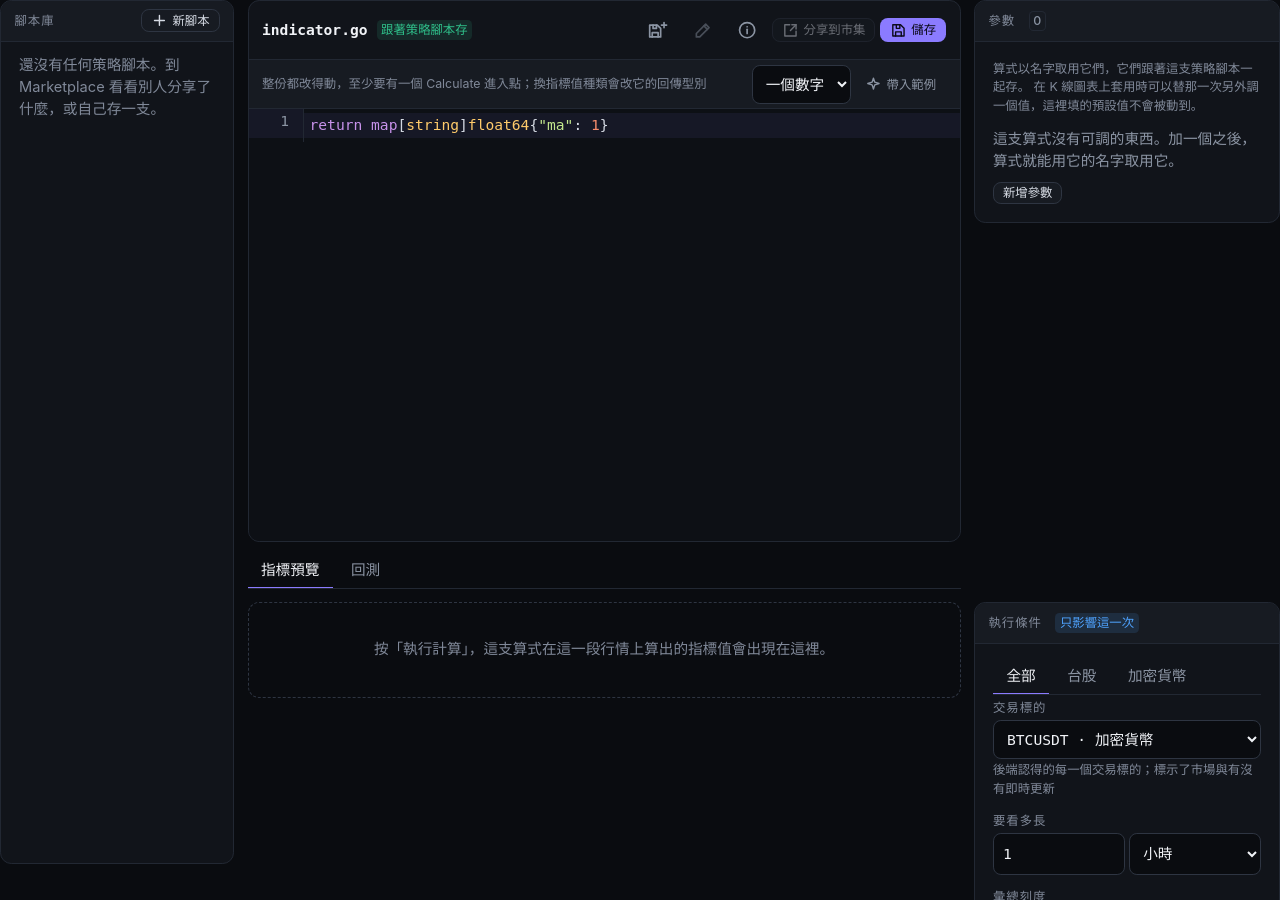
Test: 策略腳本畫面上的參數 › 參數有問題時算不出來，參數那一欄就地說明、數字標成有問題
The width and height of the screenshot is (1280, 900).
Click the button with test id "add-parameter-button".
click(1028, 193)  # box [993, 182, 1062, 204]
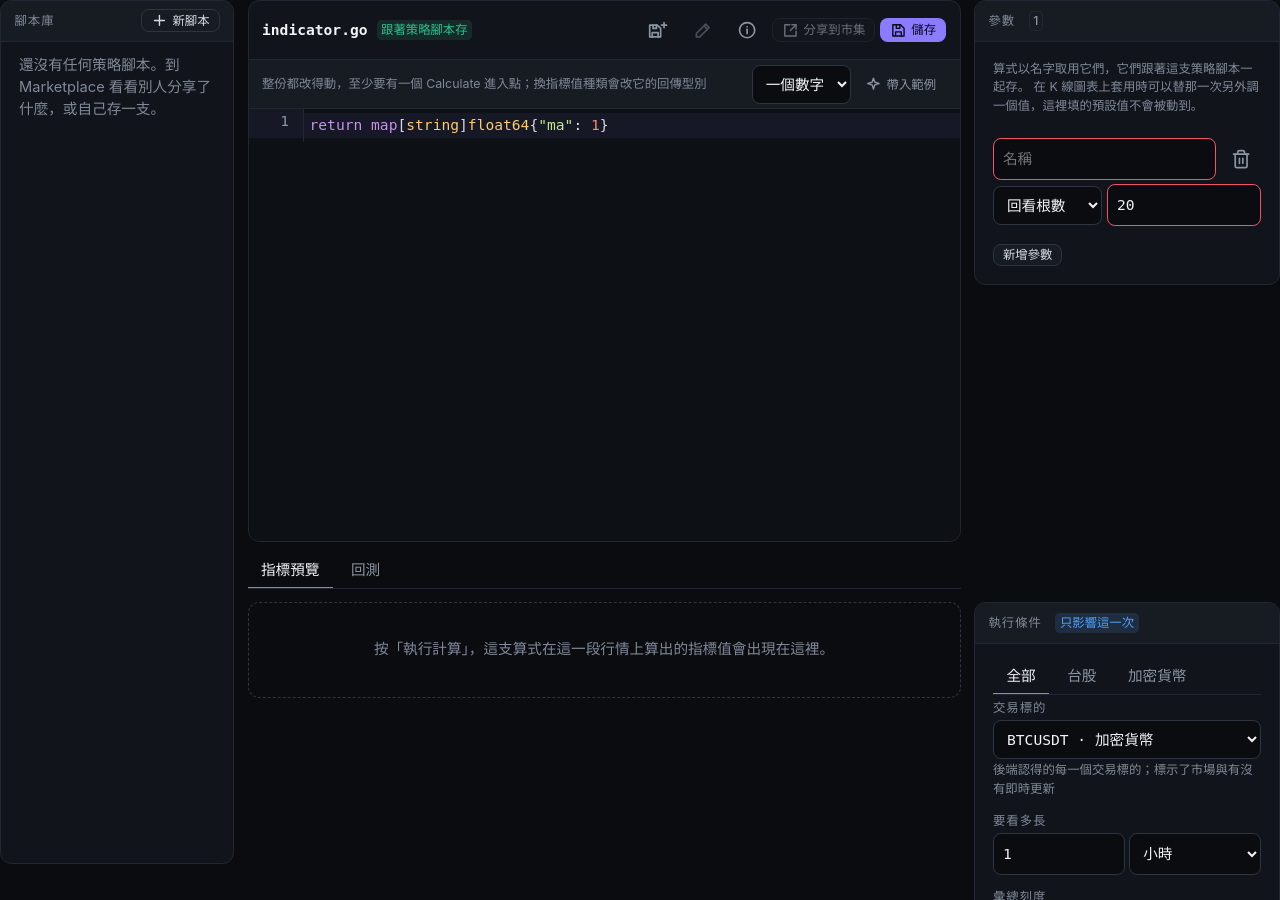
Type "期數" into the field with test id "parameter-name-input".
click(1105, 159); type("期數")  # box [993, 138, 1216, 180]
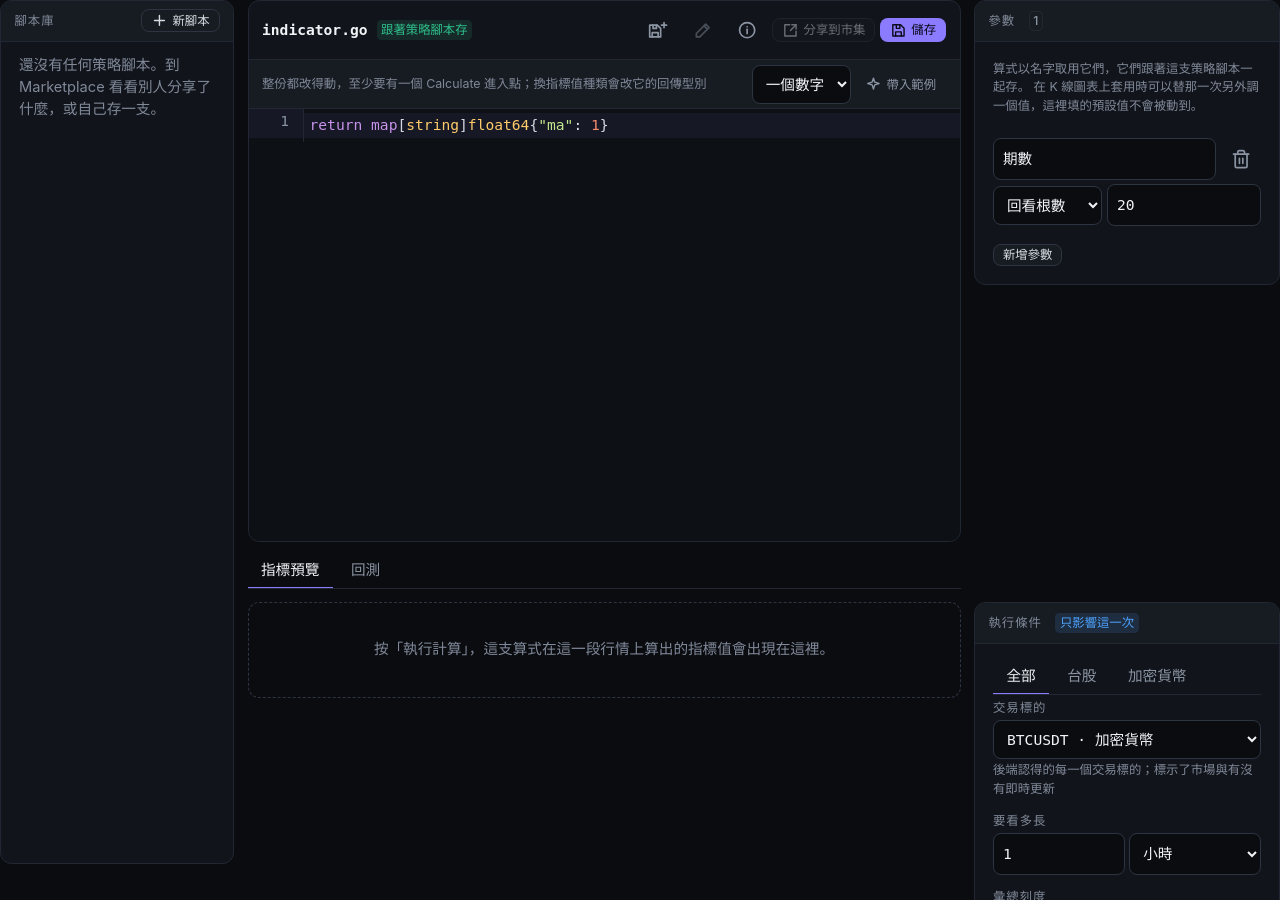
Replace the text in the number field with test id "parameter-value-input" with "0" at point(1184, 205), box [1107, 184, 1261, 226]
(page scrolled)
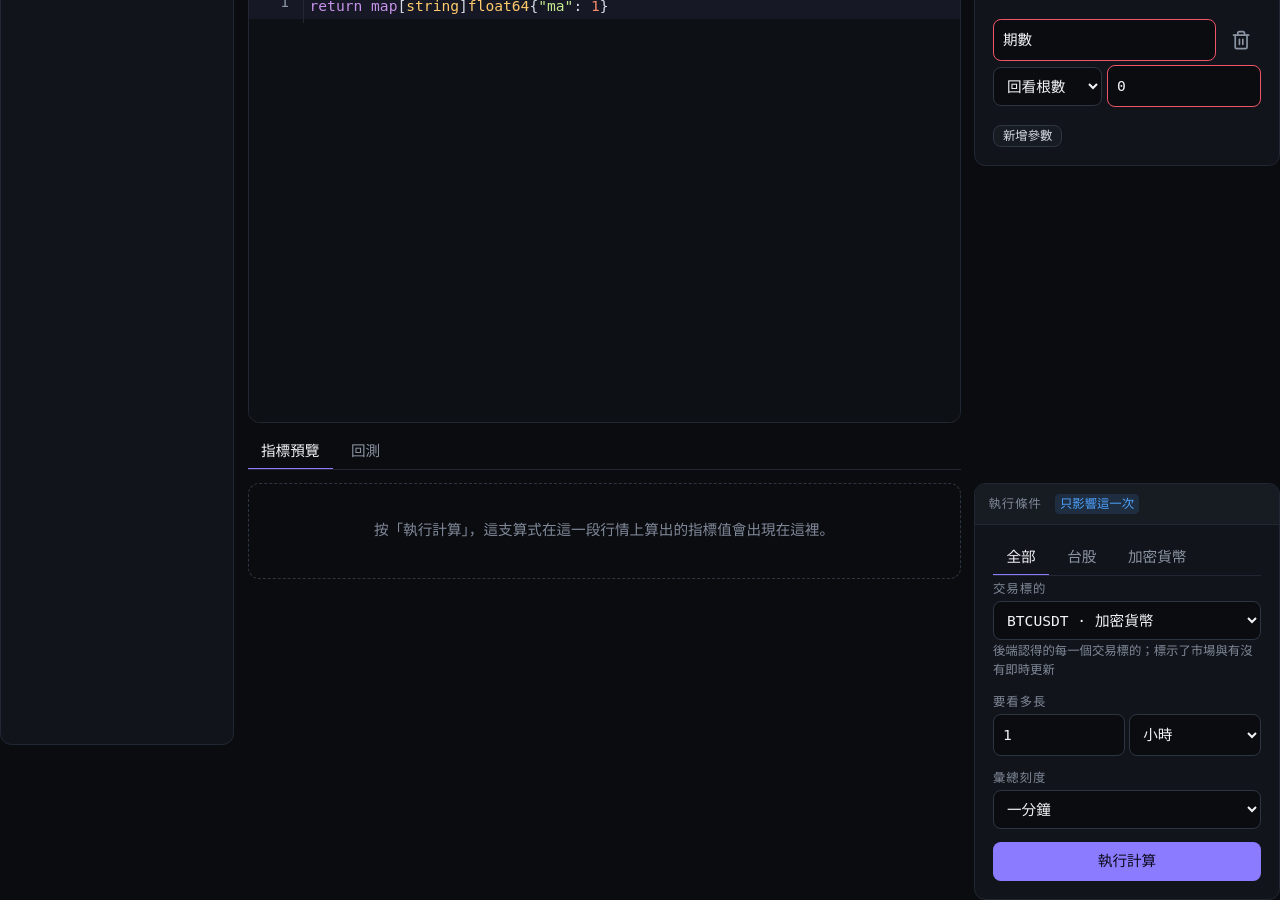
Submit the form, box [248, 483, 1279, 899]
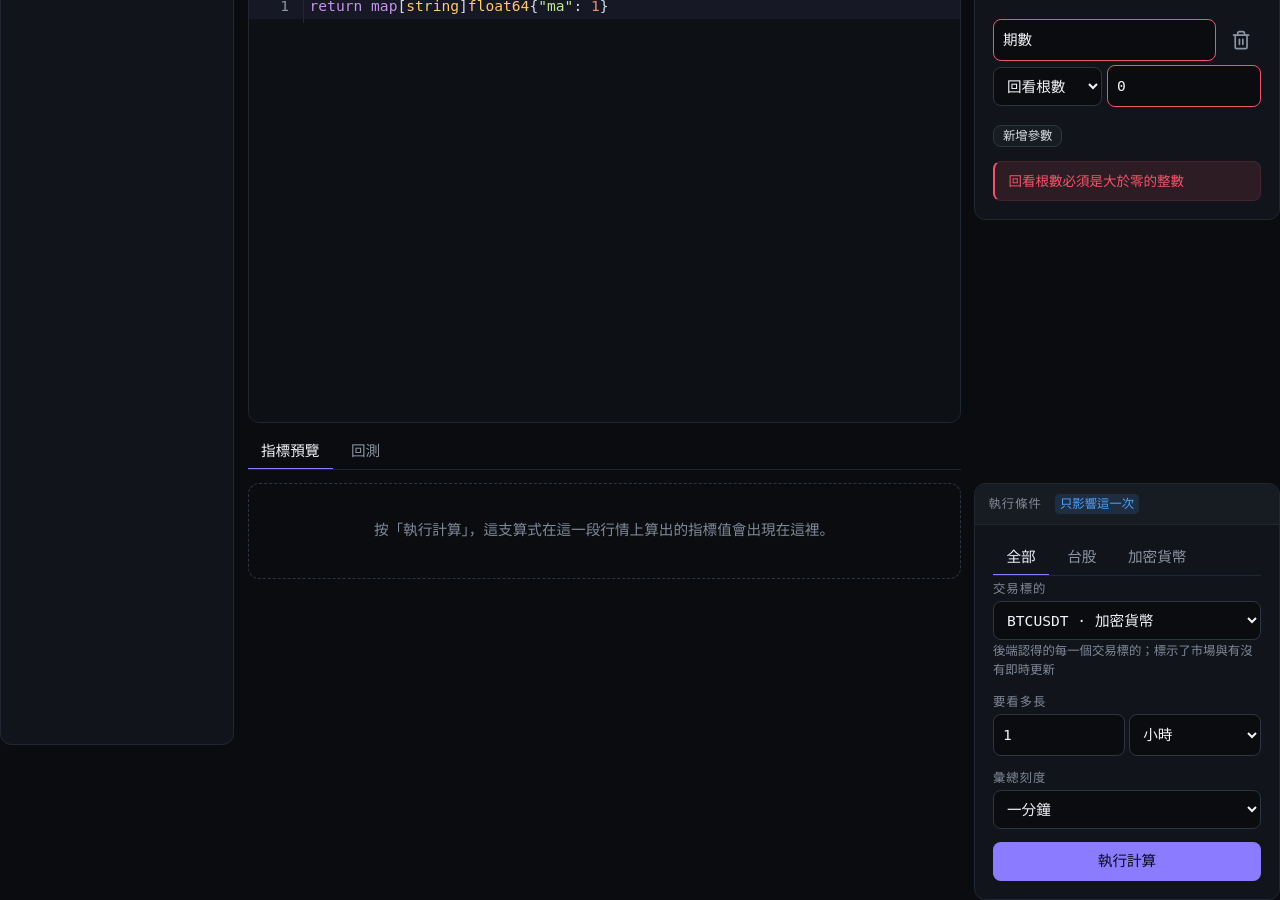
Now the message "回看根數必須是大於零的整數" is shown, box [993, 160, 1261, 201]
